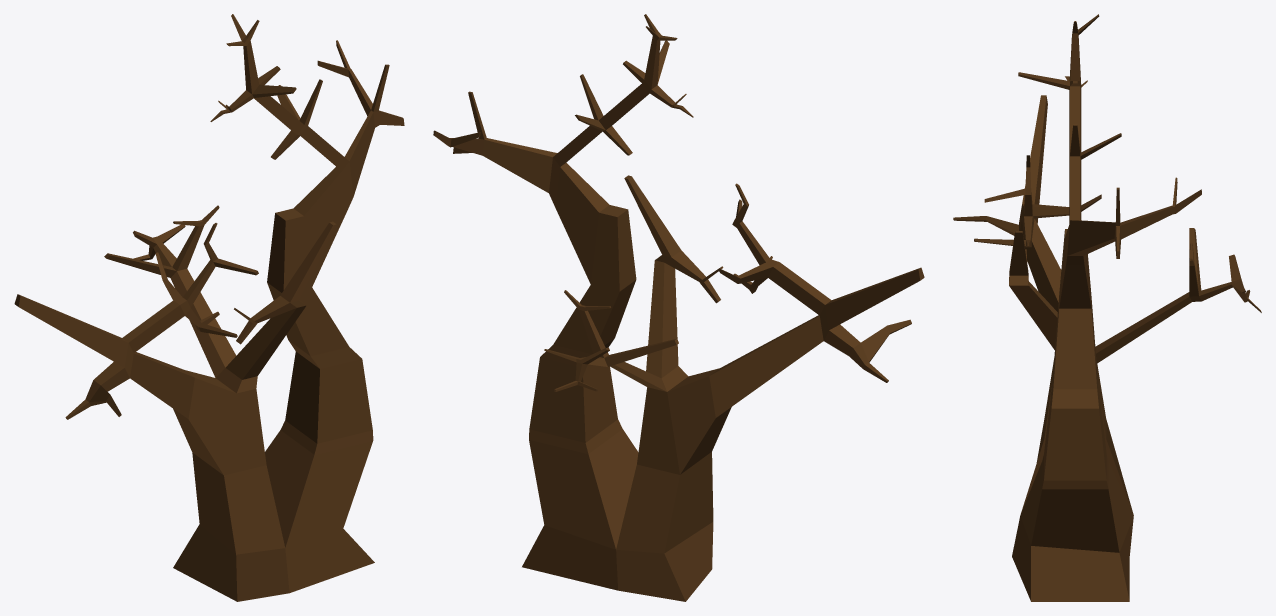
File: Tree2.fbx
3 renders of one model, left to right at view 1: azimuth 30°, elevation 25°; view 2: azimuth 150°, elevation 25°; view 3: azimuth 270°, elevation 25°, orthographic. The views are drawn at different scales.
Visible parts, largest first — view 1: Cube.001; view 2: Cube.001; view 3: Cube.001.
Boxes of the visible parts, x1=… form: Cube.001: x1=14, y1=14, x2=404, y2=601; Cube.001: x1=433, y1=14, x2=924, y2=601; Cube.001: x1=953, y1=14, x2=1261, y2=601.
Bounding box in the file's own units: 1218 × 1520 × 783.
